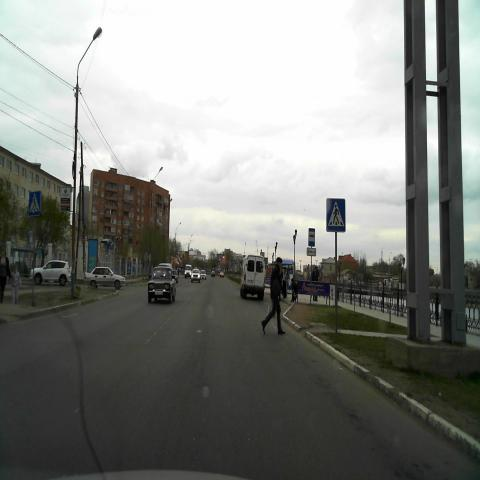5_16: (308, 228, 316, 246)
5_19_1: (326, 198, 345, 230)
8_2_1: (306, 247, 316, 257)
